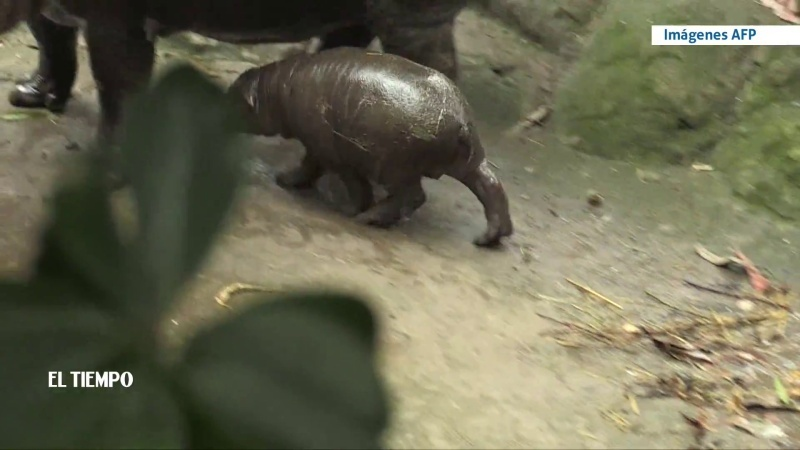hipopotamo: (209, 45, 548, 271)
